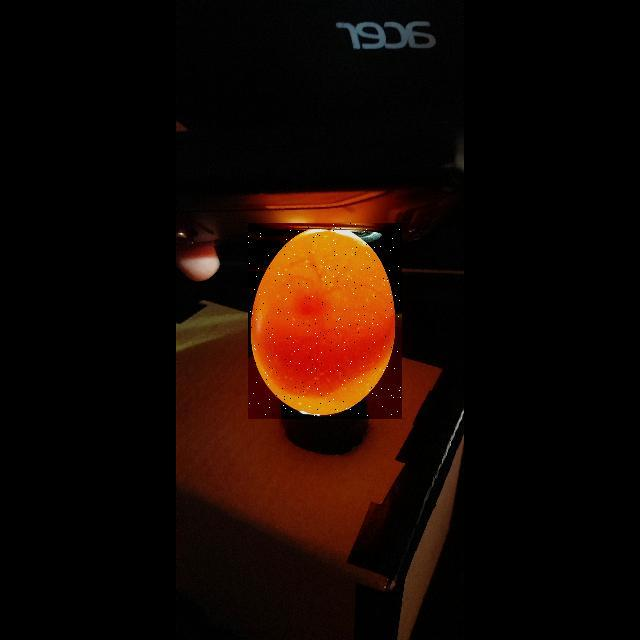Fertile: (248, 223, 402, 419)
